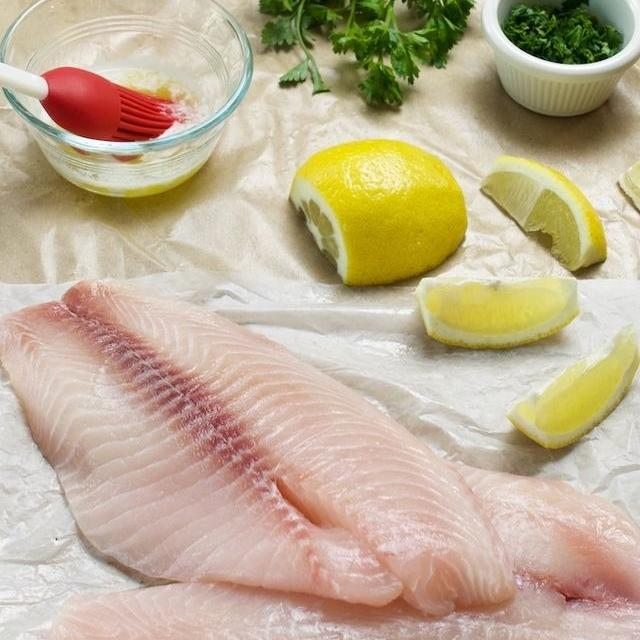fish: (0, 255, 535, 639)
